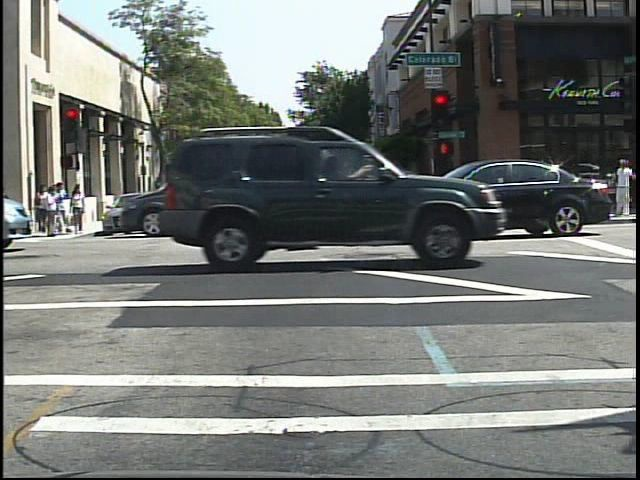person: (612, 155, 637, 219), (164, 181, 183, 221)
